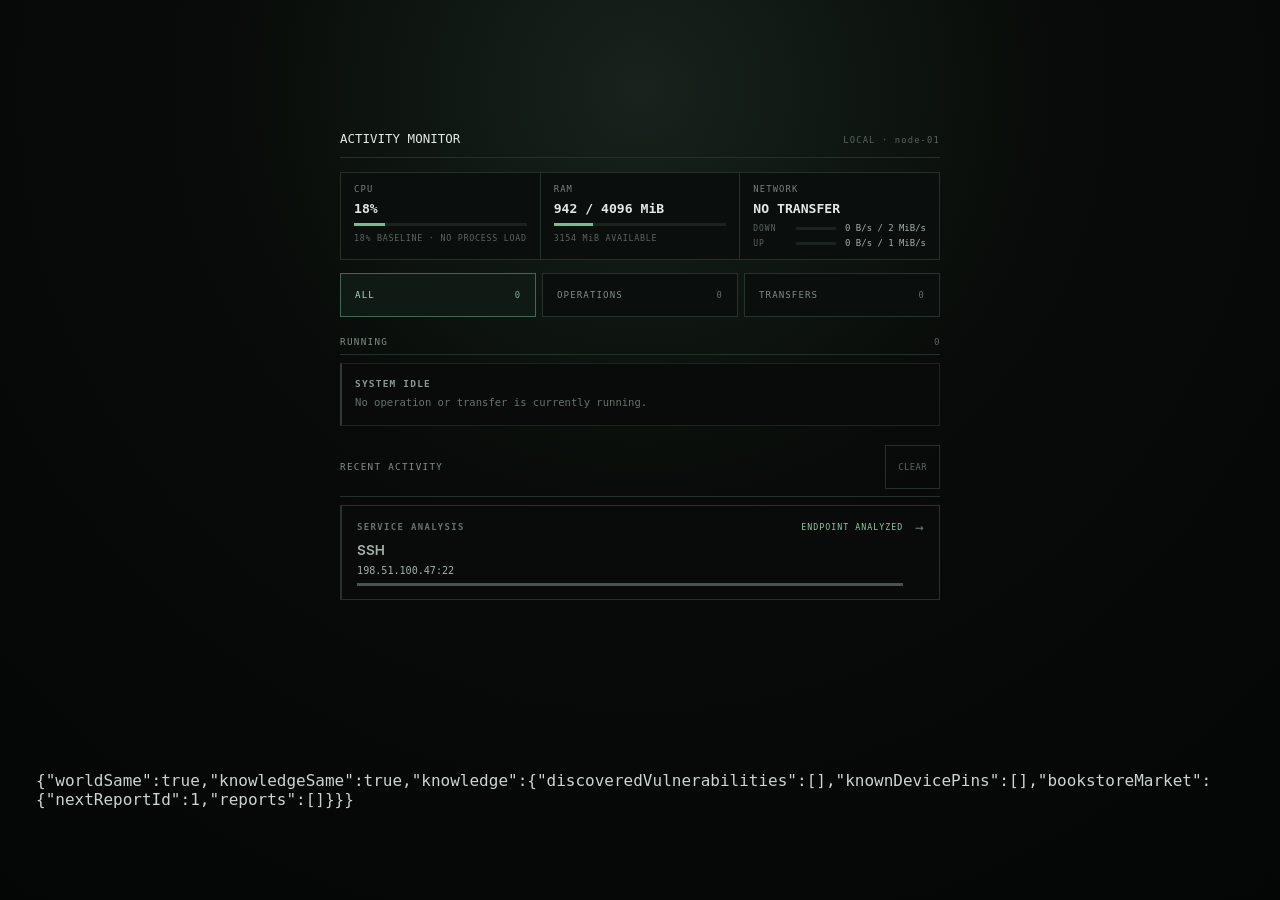
Activity Monitor: Recent Activity › discards a completed result without changing knowledge or world state
The width and height of the screenshot is (1280, 900).
What coordinates should you click on to do the following:
click the button with aria-label "Clear recent activity"
I would click on:
 (913, 467)
Its box is [885, 445, 940, 489].
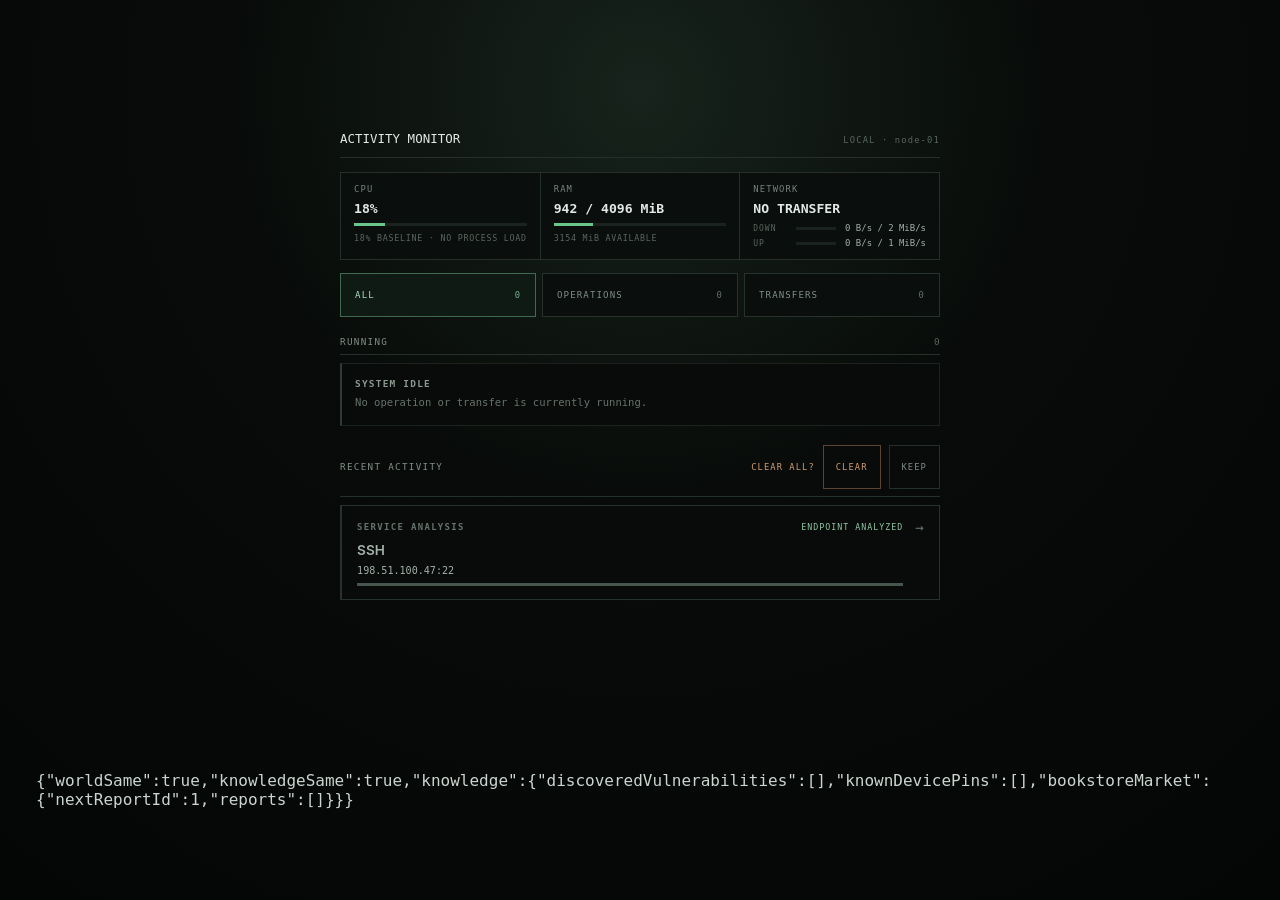
What coordinates should you click on to do the following:
click the button "CLEAR"
I would click on:
 (852, 467)
Its box is [823, 445, 881, 489].
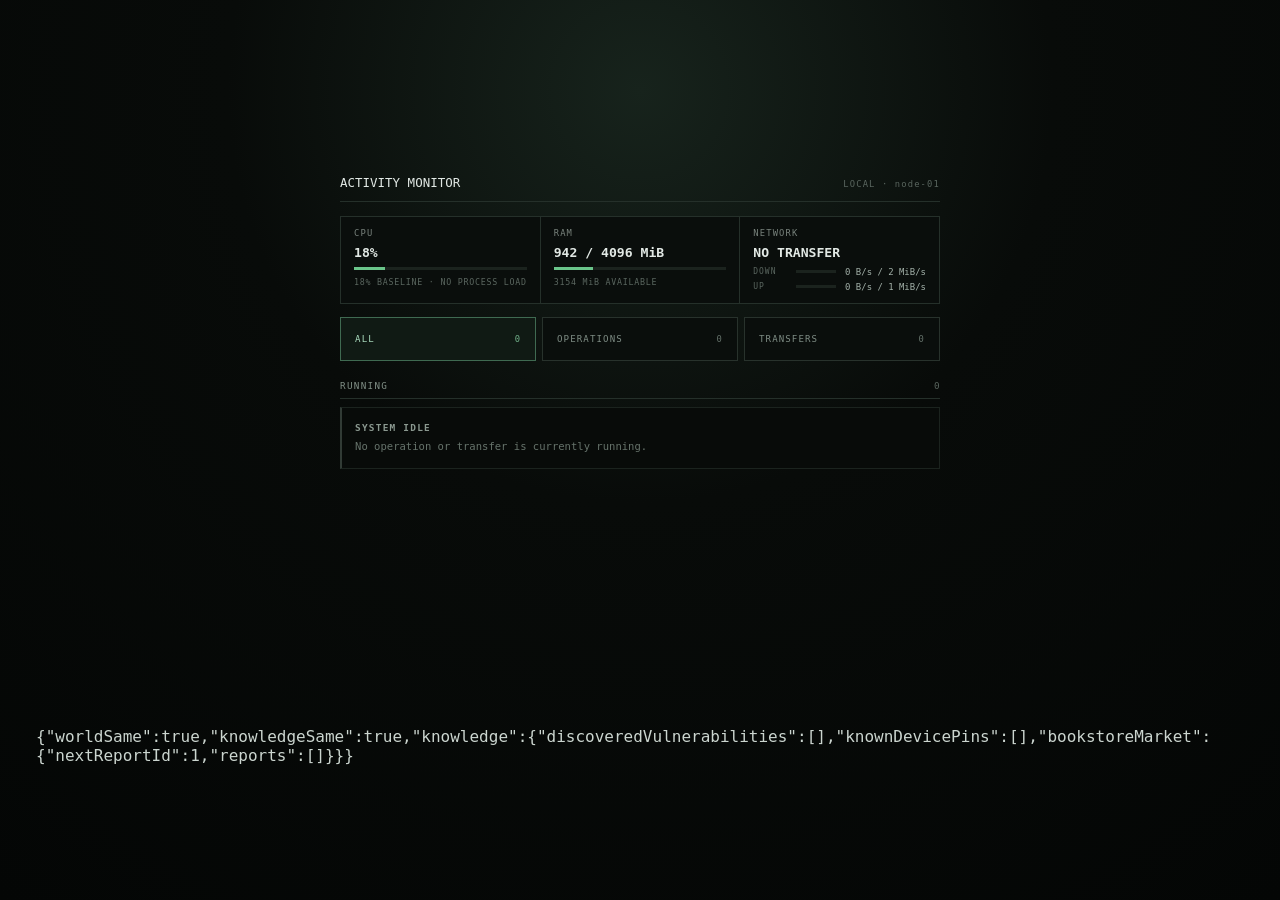
Expected: the button "ENDPOINT ANALYZED" is gone
